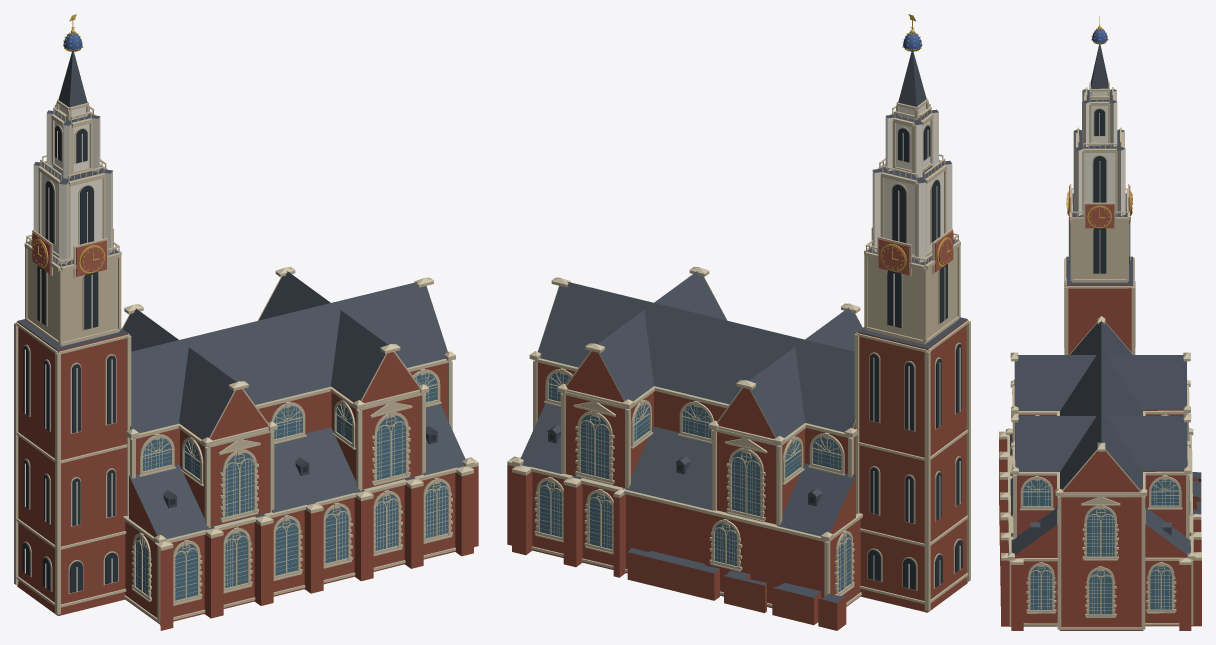
File: westerkerk.glb
3 views of the same model, side by side, from view 1: azimuth 30°, elevation 25°; view 2: azimuth 150°, elevation 25°; view 3: azimuth 270°, elevation 25° (orthographic). The views are drawn at different scales.
Visible parts, largest first — view 1: westerkerk; view 2: westerkerk; view 3: westerkerk.
Boxes of the visible parts, x1,y1,x2,y2 form: westerkerk: (14, 14, 478, 630); westerkerk: (507, 14, 970, 630); westerkerk: (999, 16, 1201, 630).
Size of the model in its own units: 62.76 by 87 by 33.65.
